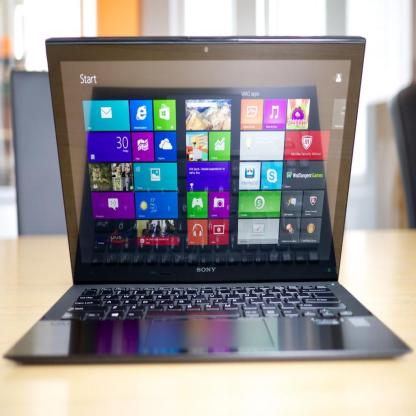board: (4, 26, 399, 392)
